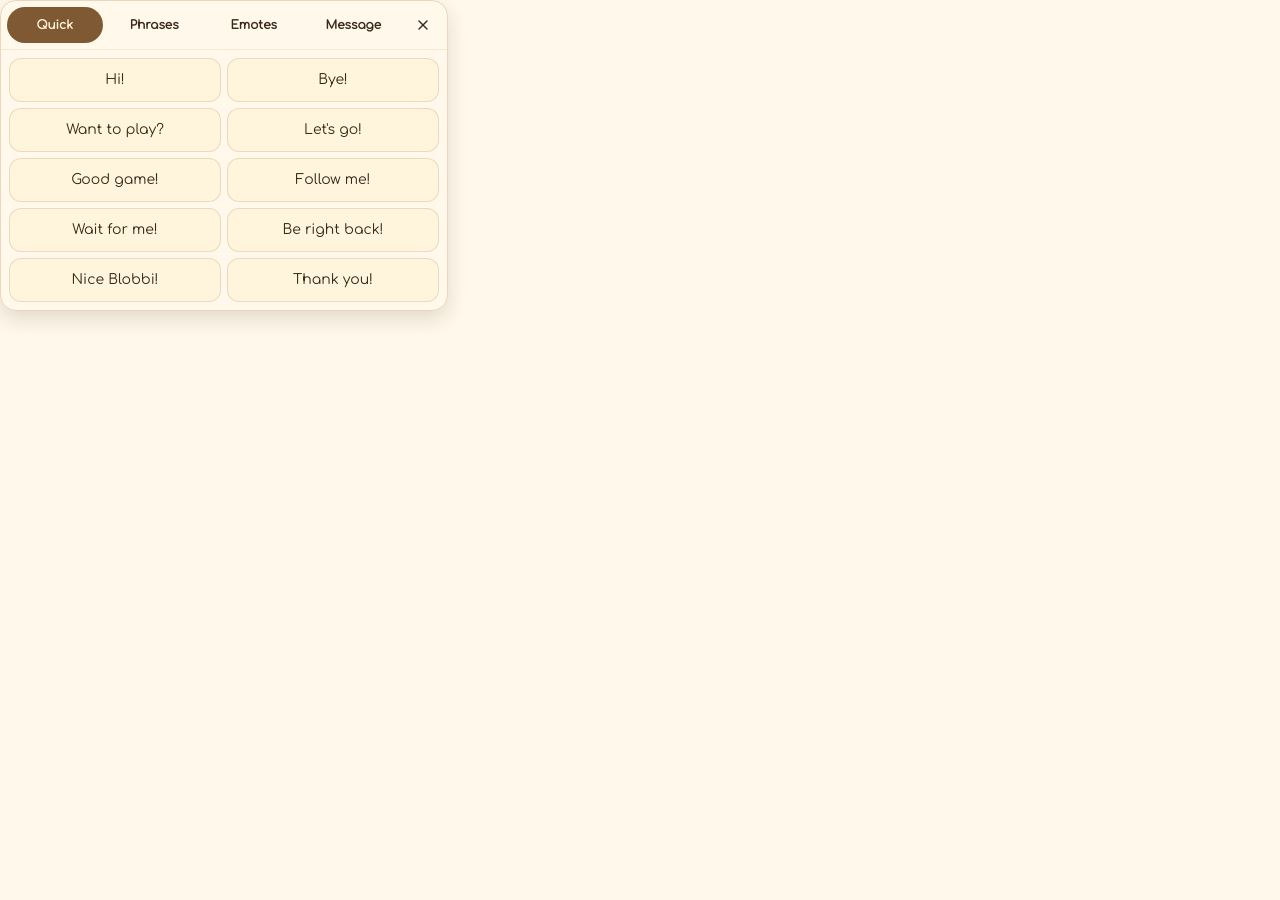
Test: Standard offers every way to talk › has a free-text composer
Step 1. Click the tab "Message" → click(353, 25), box [306,7,401,43]
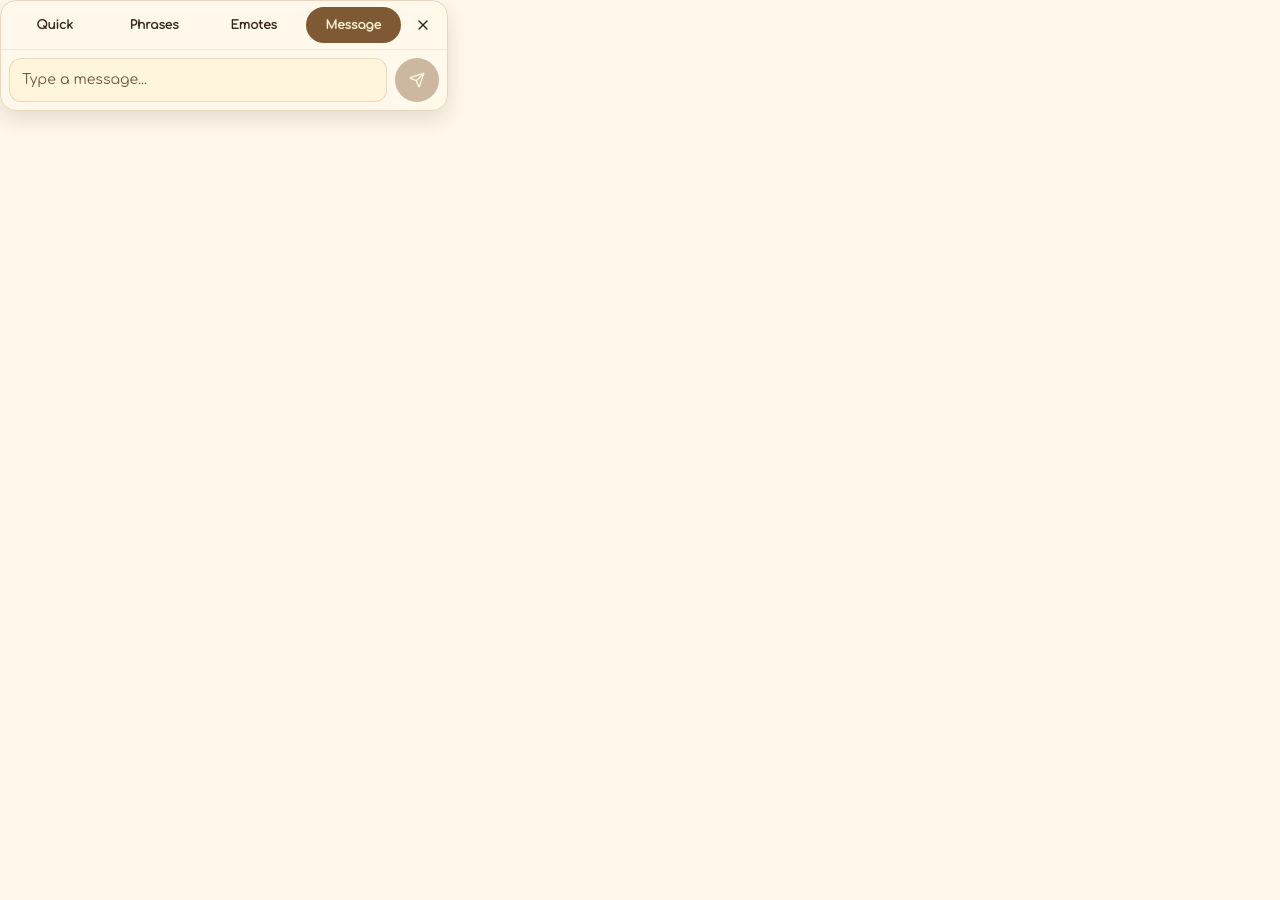
expect the field labelled "message" is shown: met, box [9,58,387,102]
